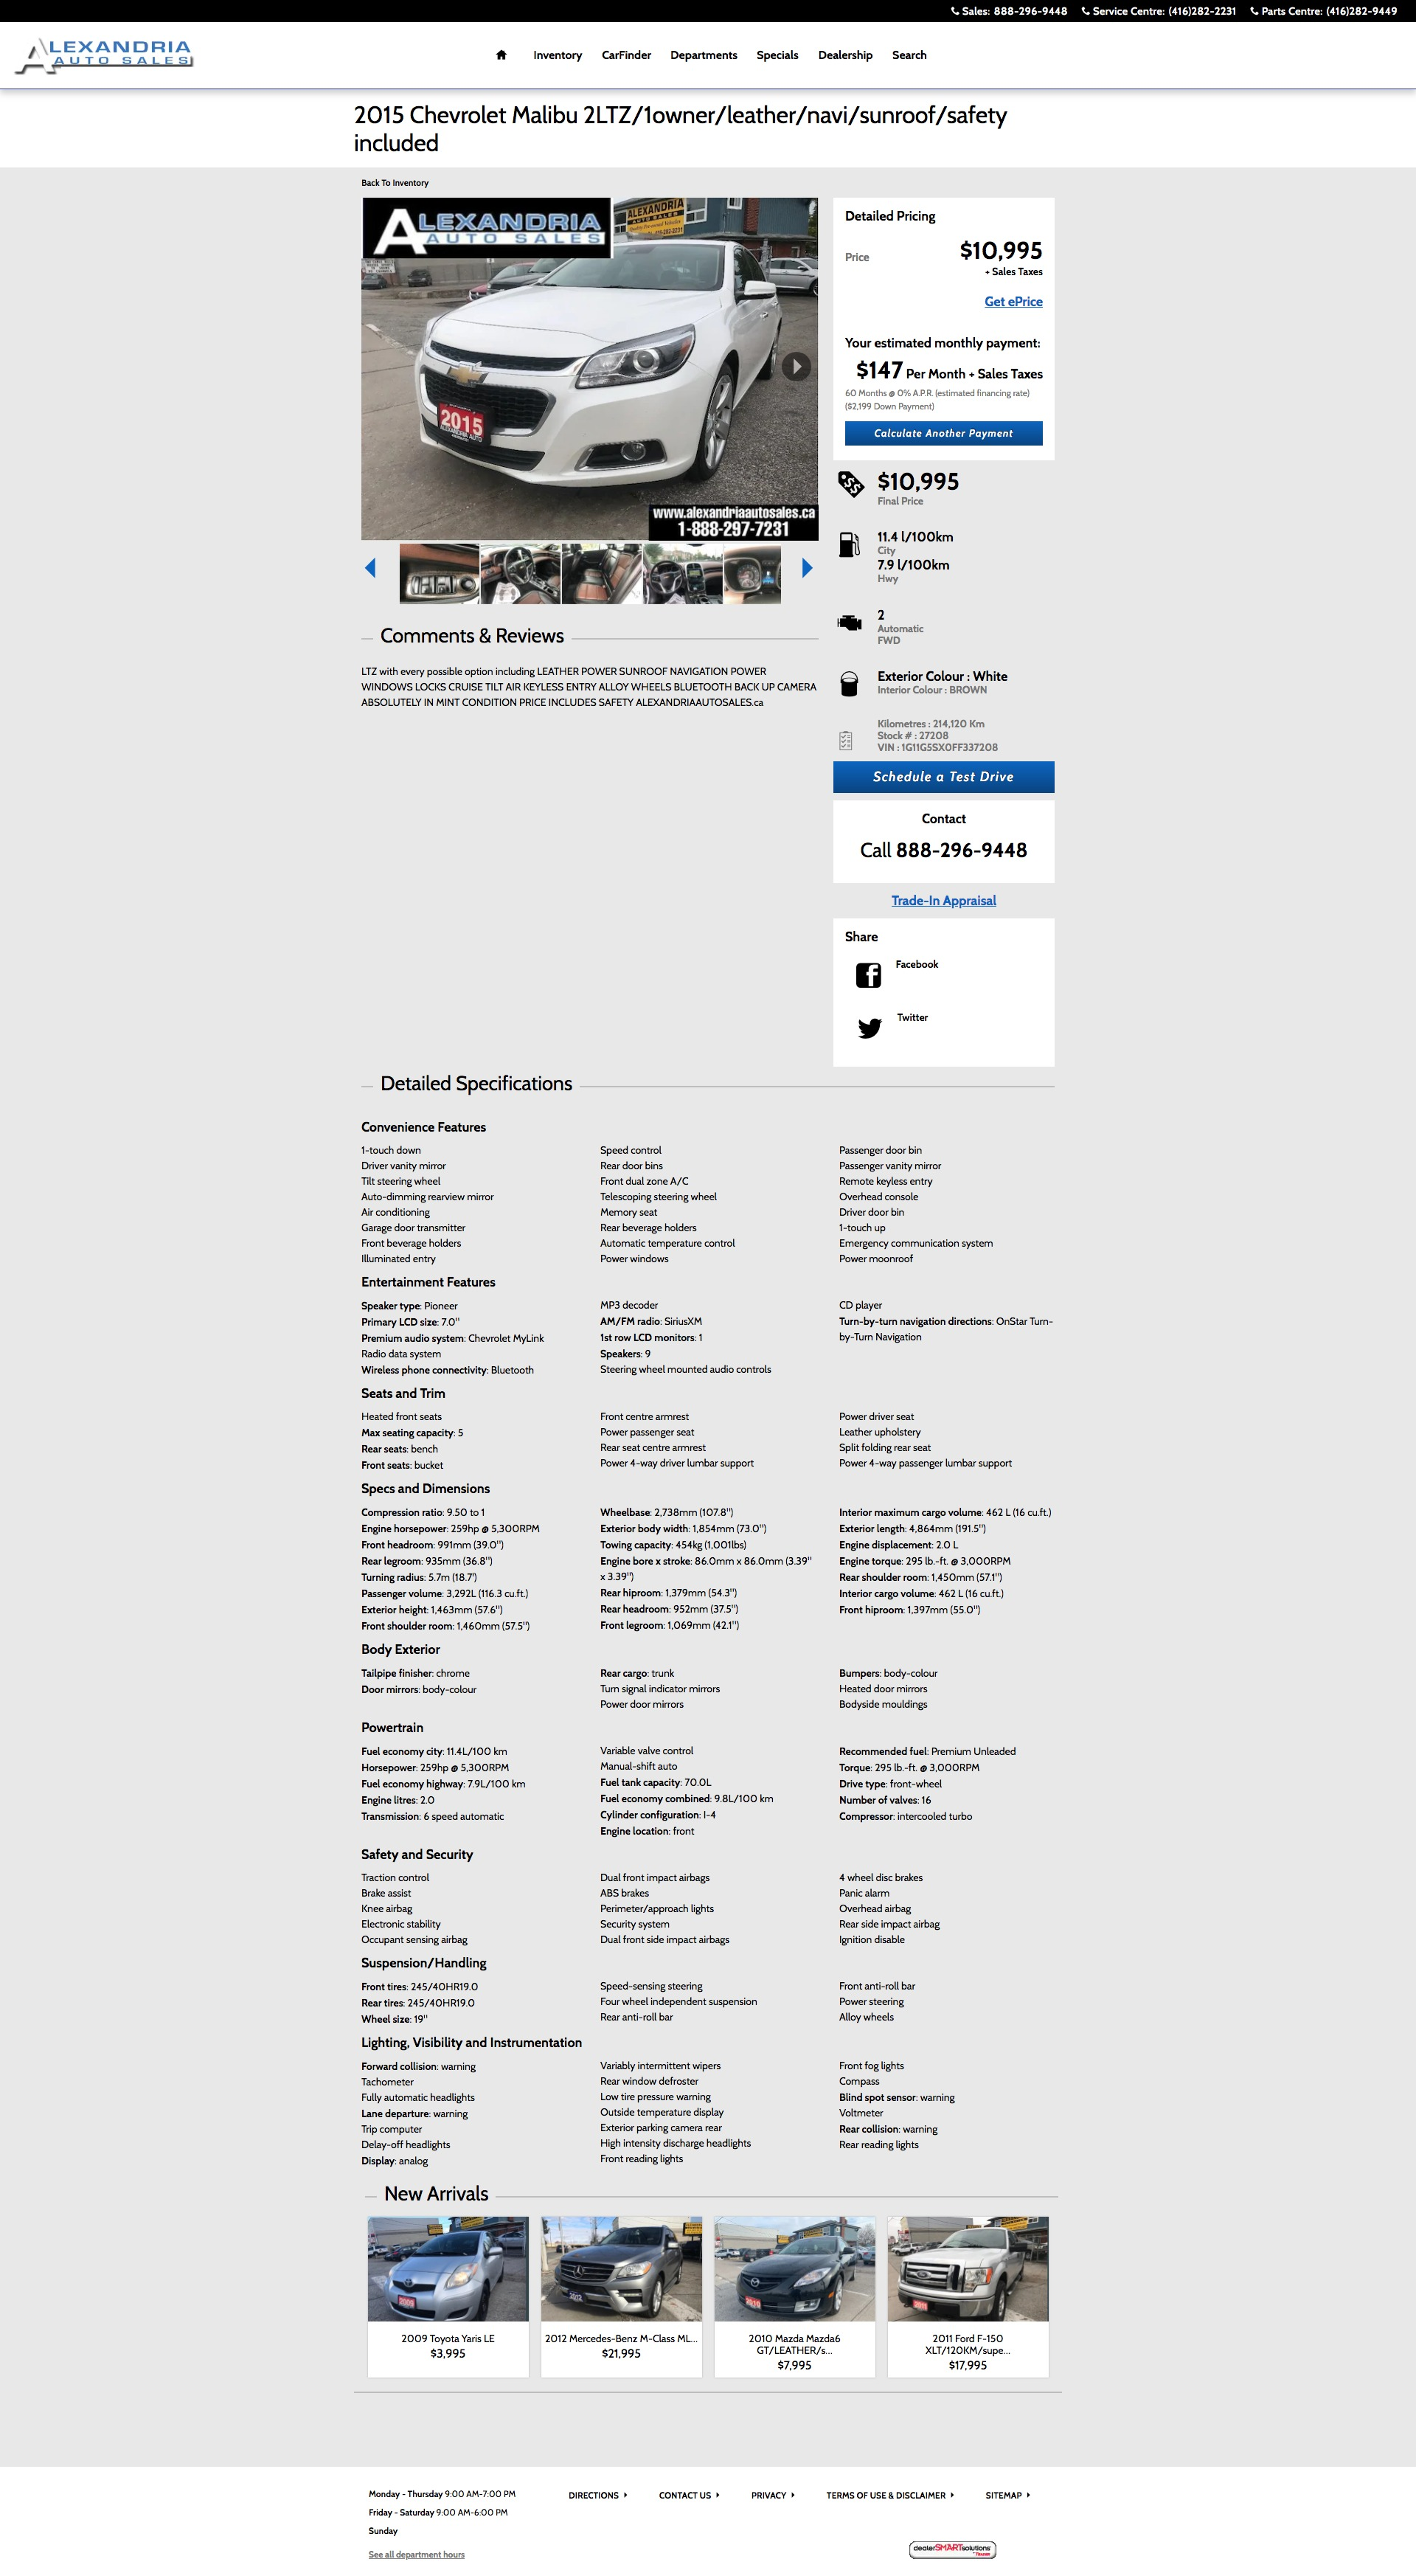car: (800, 556, 814, 579)
